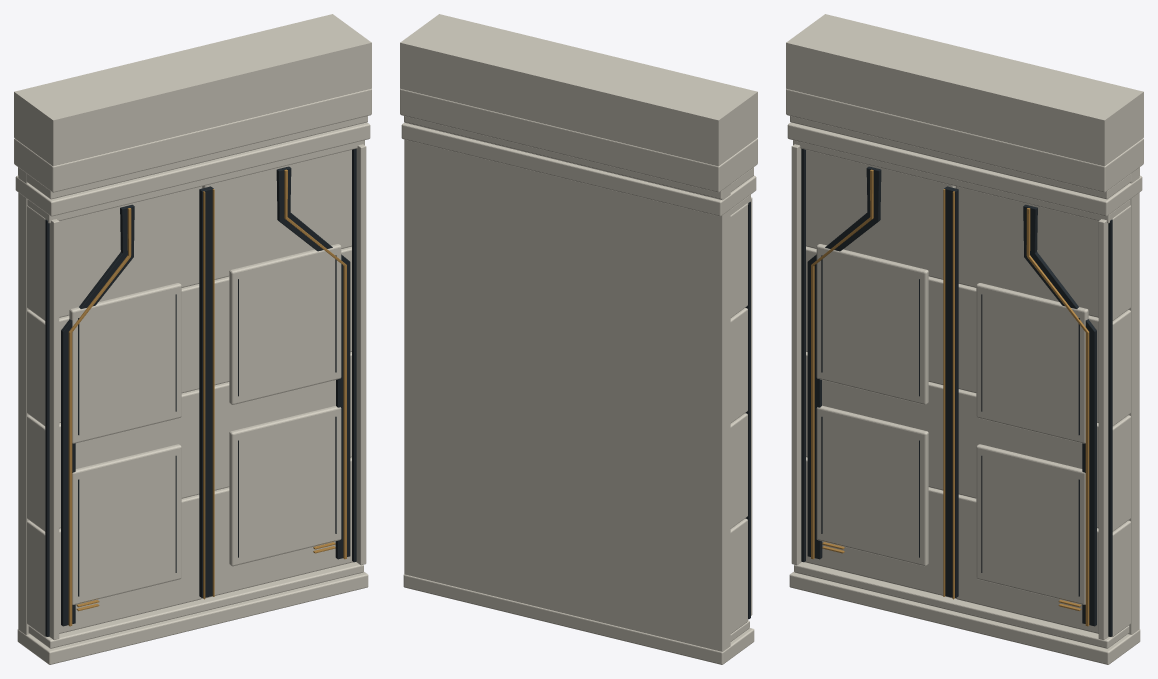
File: SM_Aurelion_KIT_Z03Wall4m.fbx
3 renders of one model, left to right at view 1: azimuth 30°, elevation 25°; view 2: azimuth 150°, elevation 25°; view 3: azimuth 330°, elevation 25°, orthographic.
Visible parts, largest first — view 1: SM_Aurelion_KIT_Z03Wall4m; view 2: SM_Aurelion_KIT_Z03Wall4m; view 3: SM_Aurelion_KIT_Z03Wall4m.
Boxes of the visible parts, x1,y1,x2,y2 form: SM_Aurelion_KIT_Z03Wall4m: [14, 14, 371, 664]; SM_Aurelion_KIT_Z03Wall4m: [400, 14, 757, 664]; SM_Aurelion_KIT_Z03Wall4m: [786, 14, 1143, 664].
Bounding box in the file's own units: 400 × 85 × 655.
